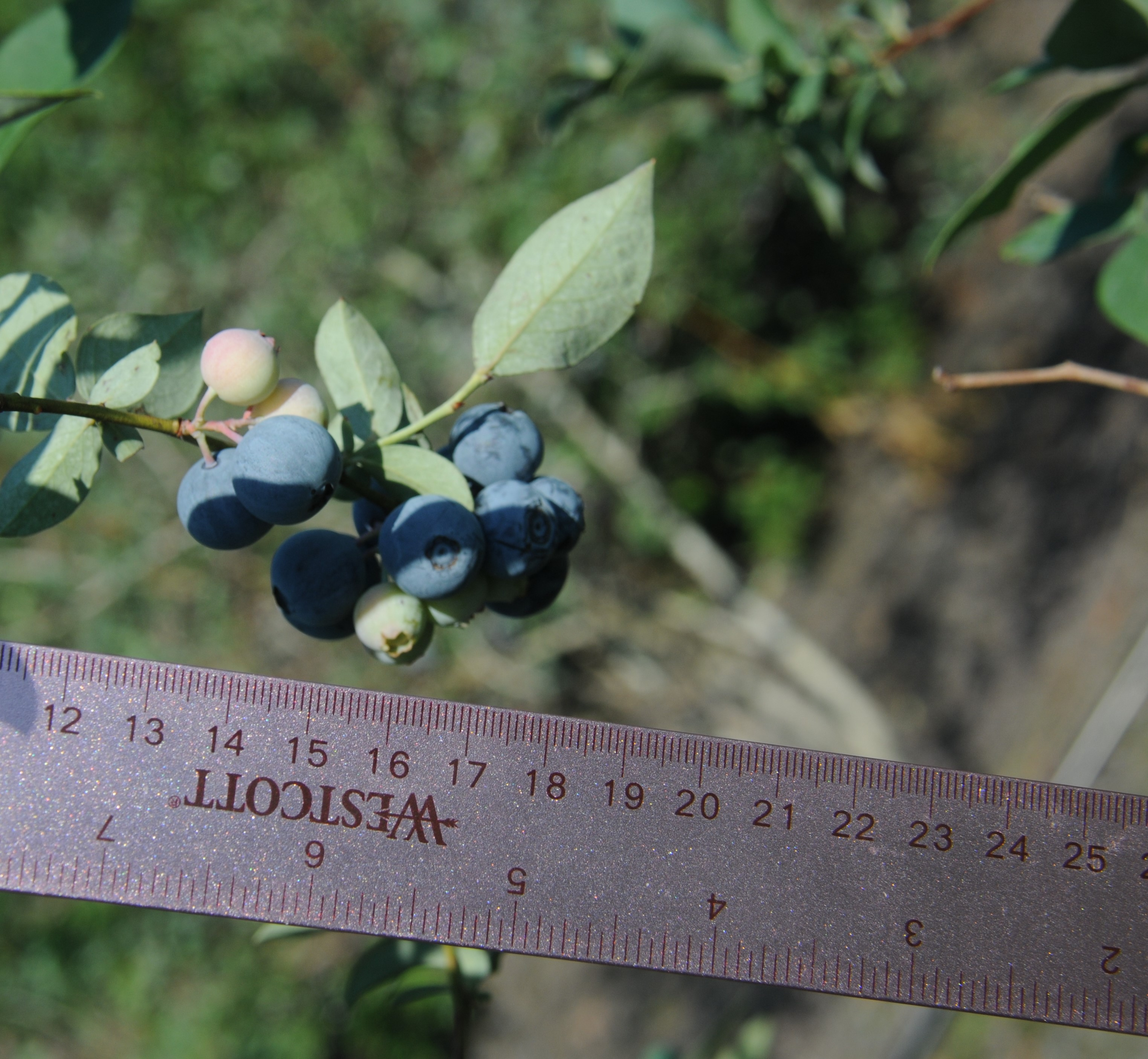Immature: (200, 327, 280, 405), (353, 583, 426, 656), (249, 377, 329, 430), (423, 573, 487, 629), (365, 623, 435, 665)
Mature: (232, 415, 342, 525), (377, 494, 487, 601), (176, 447, 274, 551), (269, 530, 367, 628), (474, 478, 561, 580), (449, 400, 546, 491), (294, 553, 381, 639), (489, 554, 570, 618), (527, 475, 586, 560), (353, 478, 399, 536)
